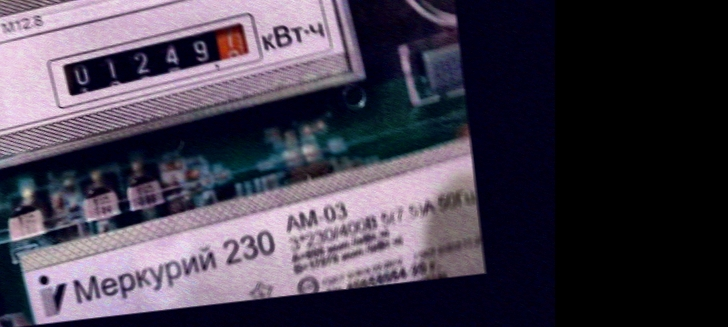0: (67, 59, 89, 87)
1: (99, 55, 117, 82)
2: (129, 49, 152, 77)
4: (160, 40, 181, 68)
7: (219, 25, 236, 51)
9: (189, 36, 209, 63)
screen: (37, 13, 277, 114)
